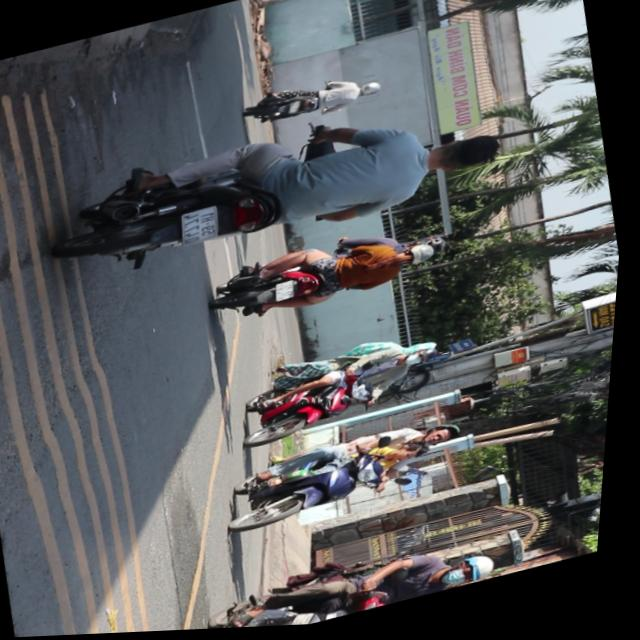helmet: (447, 556, 507, 595), (426, 426, 468, 453), (404, 246, 442, 273), (408, 350, 446, 374)
licenseplate: (51, 81, 524, 298), (197, 530, 511, 632), (226, 414, 479, 540), (234, 327, 461, 455), (210, 219, 452, 335)
motorcyclist: (425, 131, 508, 185), (396, 444, 440, 470)
nohelmet: (181, 208, 224, 247), (277, 283, 299, 305)
